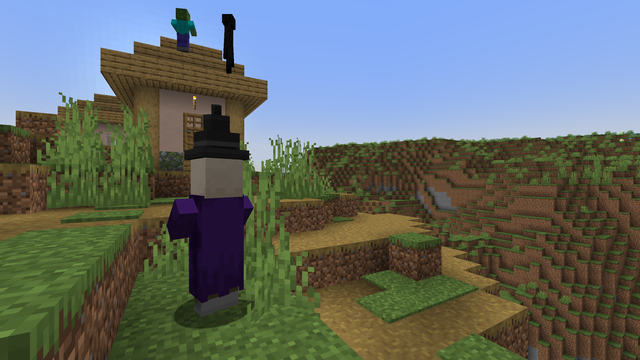endermens: (221, 10, 235, 74)
sorcieres: (189, 150, 246, 324)
zombies: (176, 7, 190, 53)
